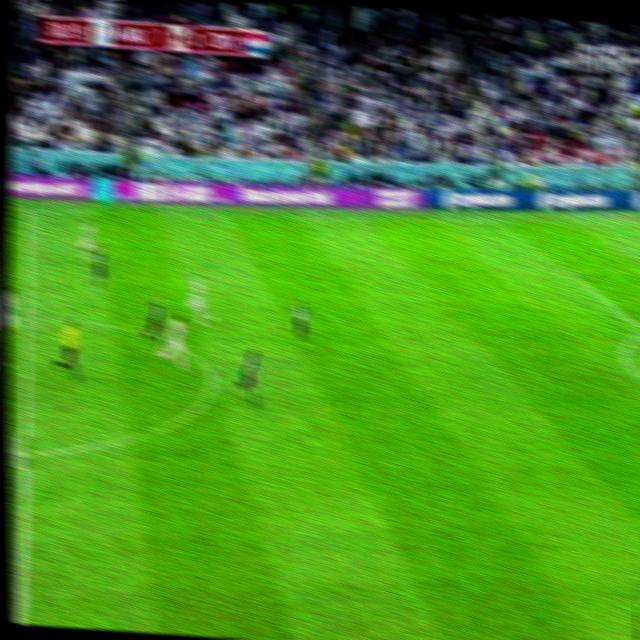bigarea_top_inner: (555, 258, 578, 282)
halfcircle_bottom: (8, 434, 36, 469)
halfcircle_top: (15, 303, 37, 325)
midline_top_intersection: (18, 197, 38, 219)
top_arc_area_intersection: (633, 317, 640, 341)
